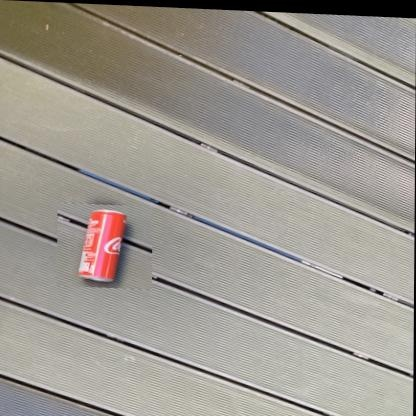trash: (79, 210, 125, 281)
